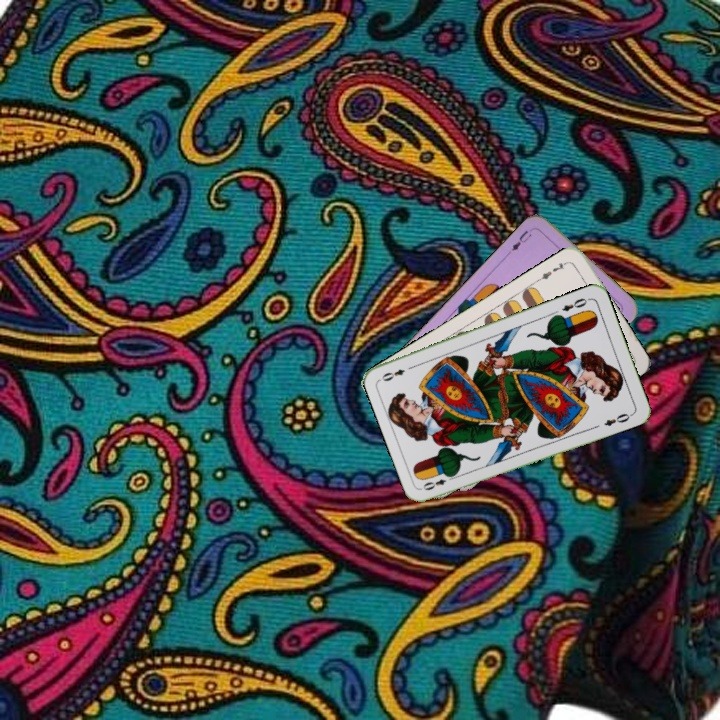E7: (534, 257, 571, 284)
EO: (419, 471, 458, 493), (558, 294, 593, 314)
EU: (505, 224, 537, 256)
